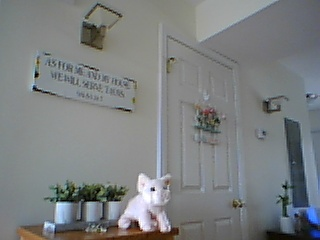piggy: (118, 171, 175, 234)
